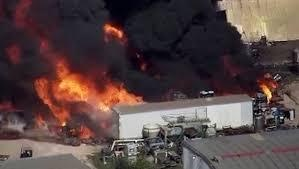fire: (35, 55, 142, 136), (257, 77, 274, 102)
